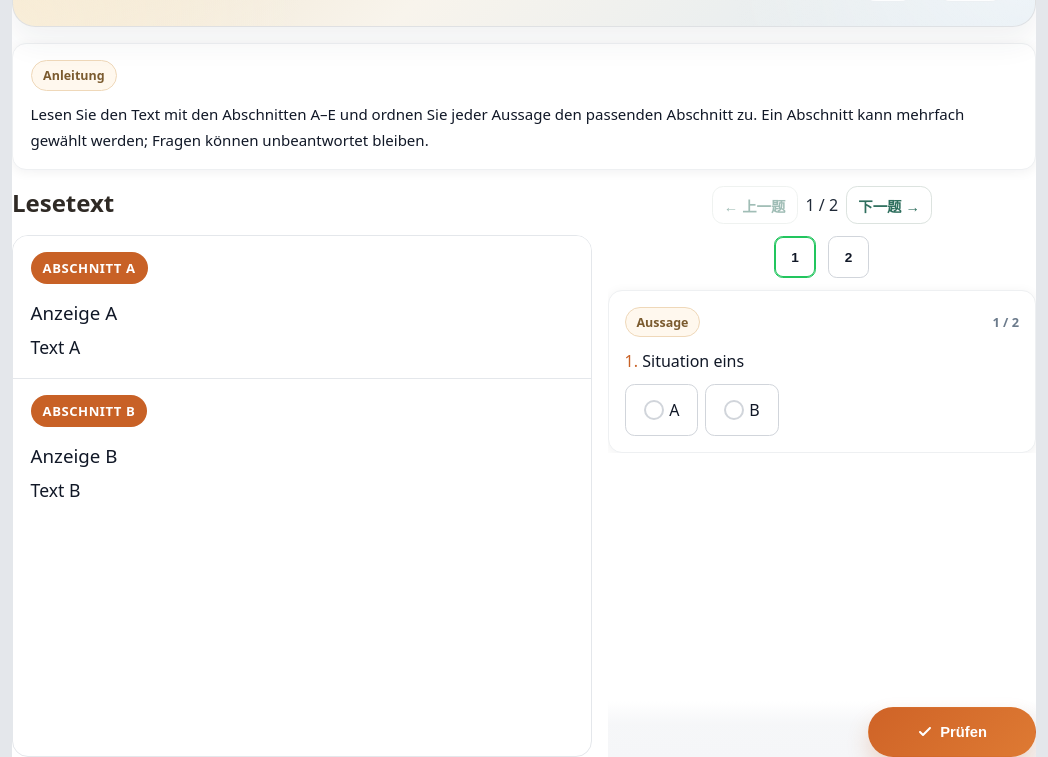
ReadingAdMatchingPage annotations › lets C1 learners check with an unanswered question
(page scrolled)
Expected: the text "Situation eins" is shown, [642,350,744,372]
Click the button "Prüfen" at [952, 732], box [868,707,1036,756]
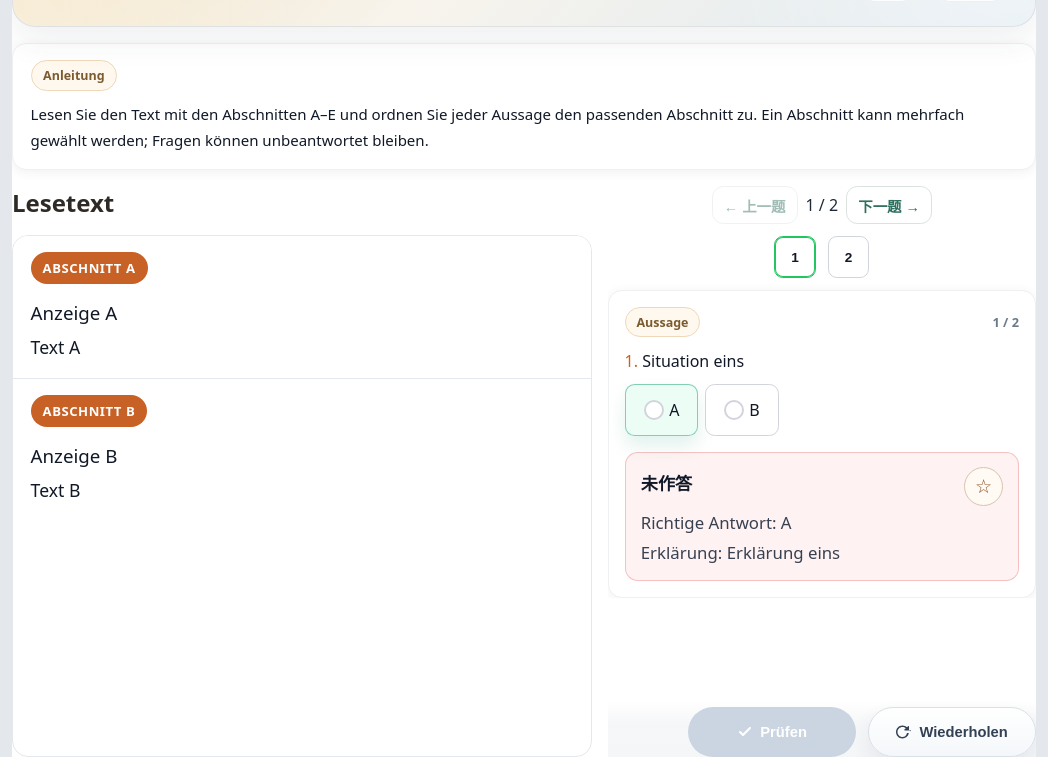
Expected: the text "未作答" is shown, [641,470,692,495]
Expected: the button "Wiederholen" is shown, [868,707,1036,756]
